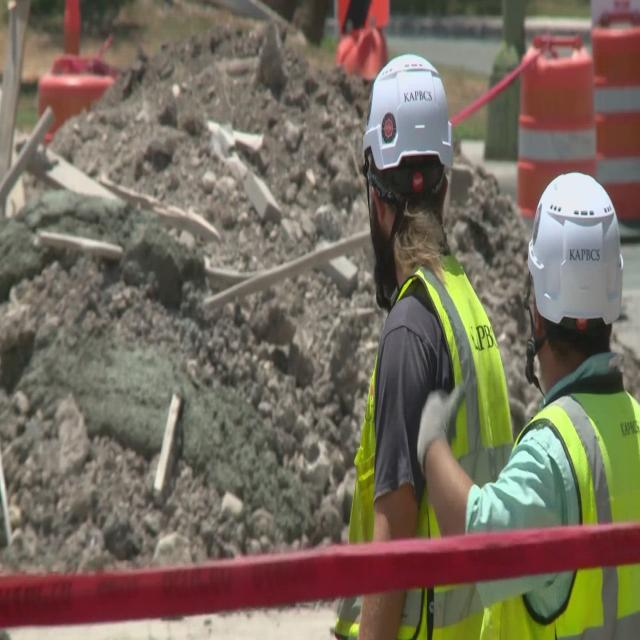helmet: (525, 160, 630, 338), (354, 37, 458, 180)
vest: (368, 241, 508, 640), (514, 373, 640, 618)
